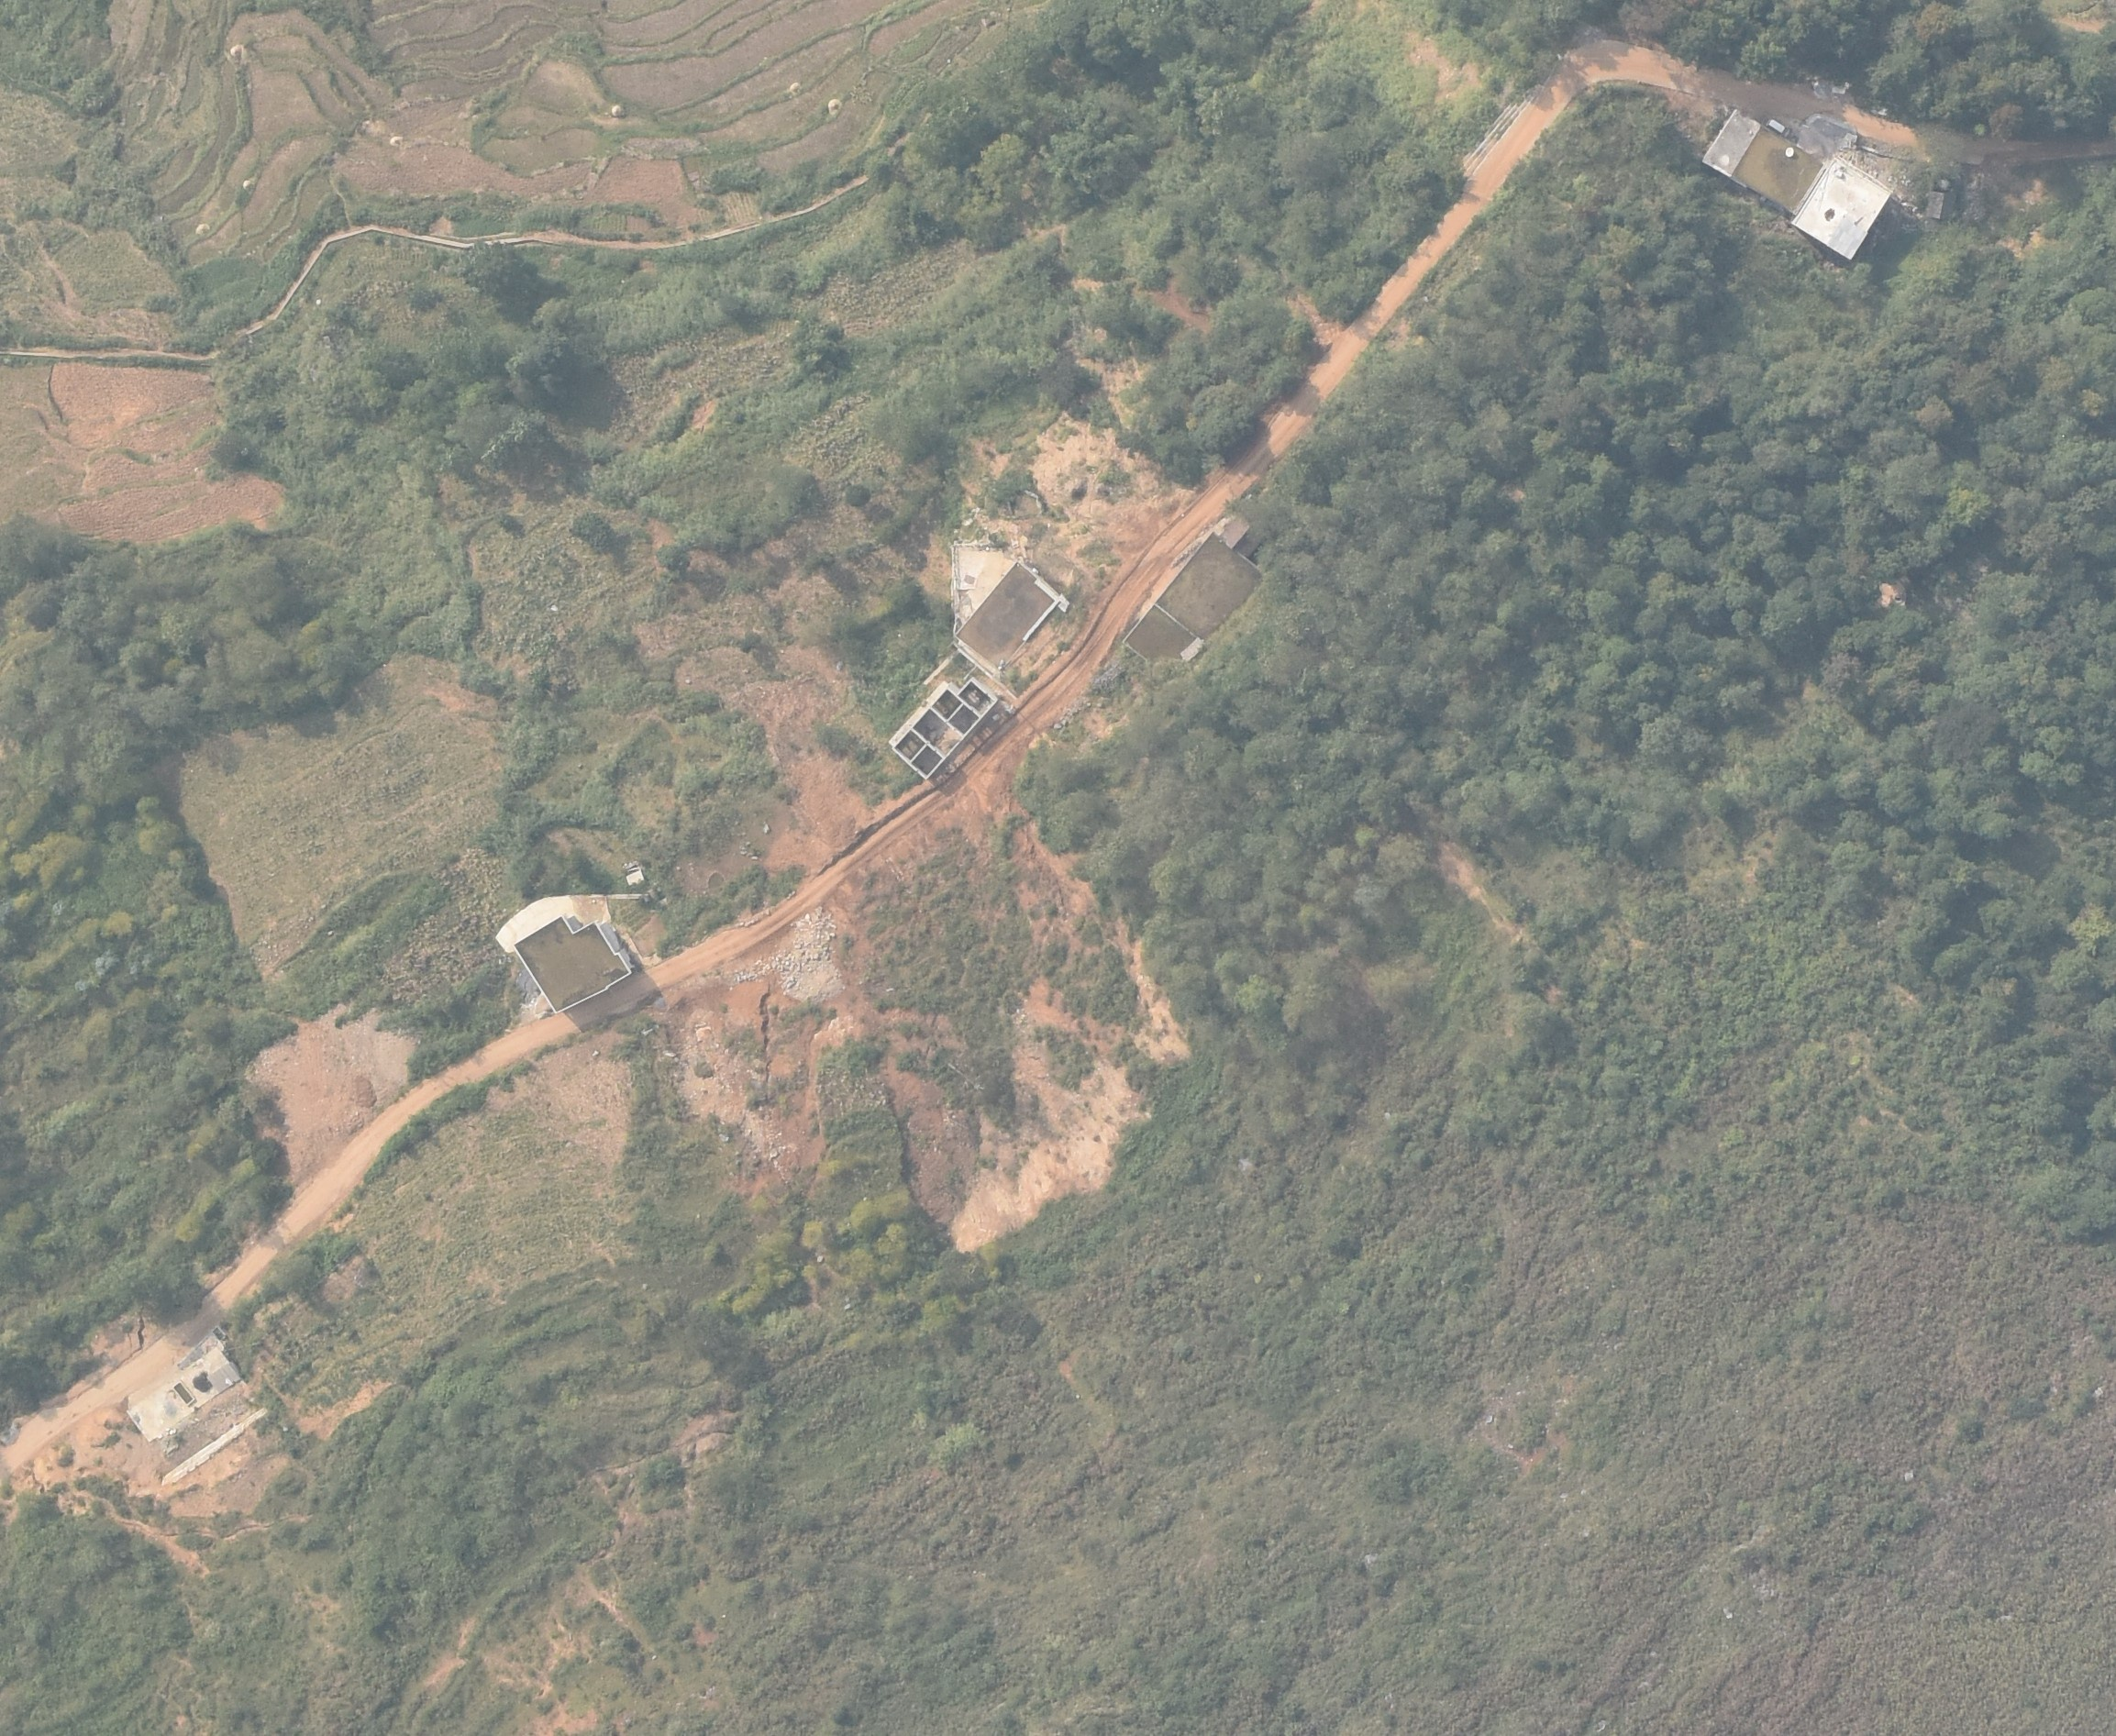building: (1156, 533, 1267, 643), (954, 561, 1060, 675), (729, 903, 845, 1004), (888, 676, 1000, 779), (514, 916, 631, 1013), (1789, 159, 1889, 260), (1732, 127, 1823, 213), (1121, 604, 1199, 673), (1703, 109, 1759, 176)
vehicle: (1767, 118, 1789, 138)
